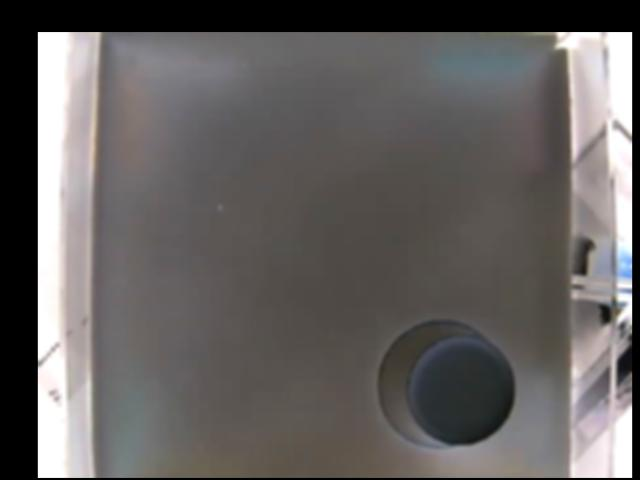Cup: (374, 319, 517, 450)
